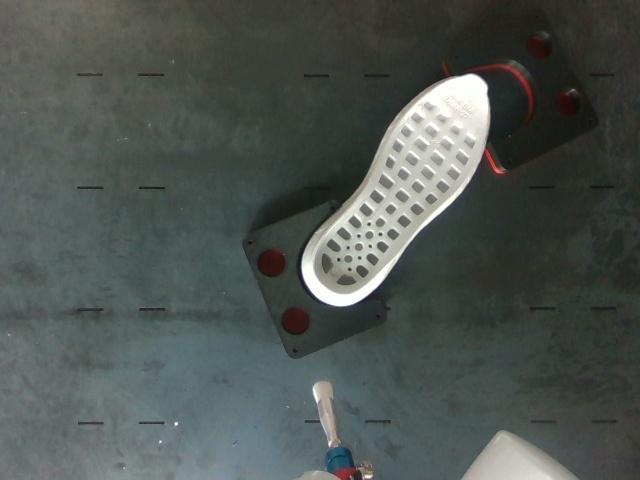shoes: (313, 75, 487, 295)
